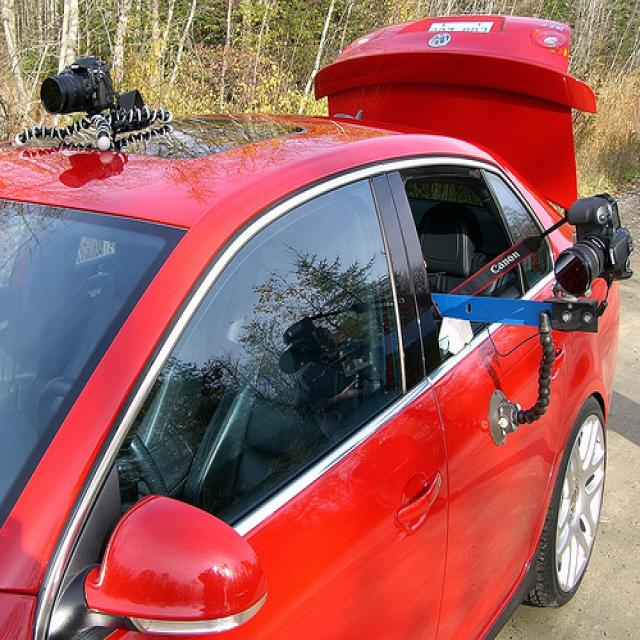Car: (0, 17, 633, 640)
